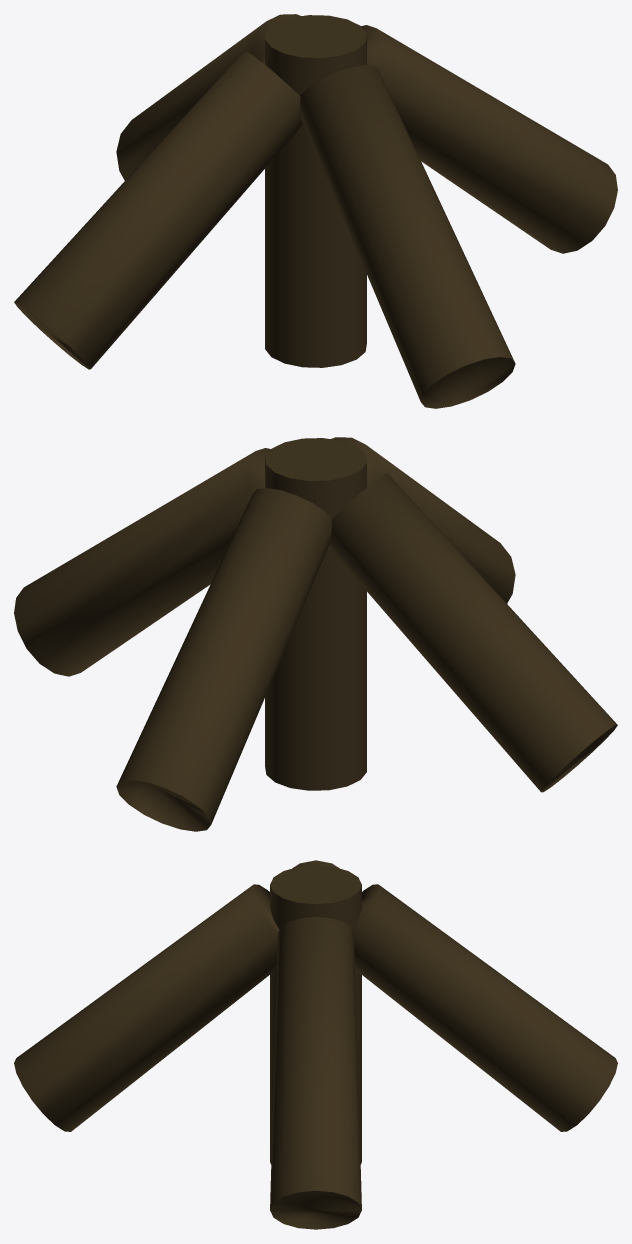
File: Firewood.fbx
The picture shows the model from 3 angles, top to bottom: view 1: azimuth 30°, elevation 25°; view 2: azimuth 150°, elevation 25°; view 3: azimuth 270°, elevation 25°; orthographic projection. The views are drawn at different scales.
Parts seen in each view (by area): view 1: Firewood; view 2: Firewood; view 3: Firewood.
Boxes of the visible parts, box(x1,y1,x2,y2) form: Firewood: box(14, 14, 617, 408); Firewood: box(14, 437, 617, 831); Firewood: box(14, 860, 617, 1229).
Size of the model in its own units: 2.33 by 1.18 by 2.33.
